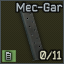M1911A1 .45 ACP Mec-Gar 11-round magazine: (0, 0, 64, 64)
